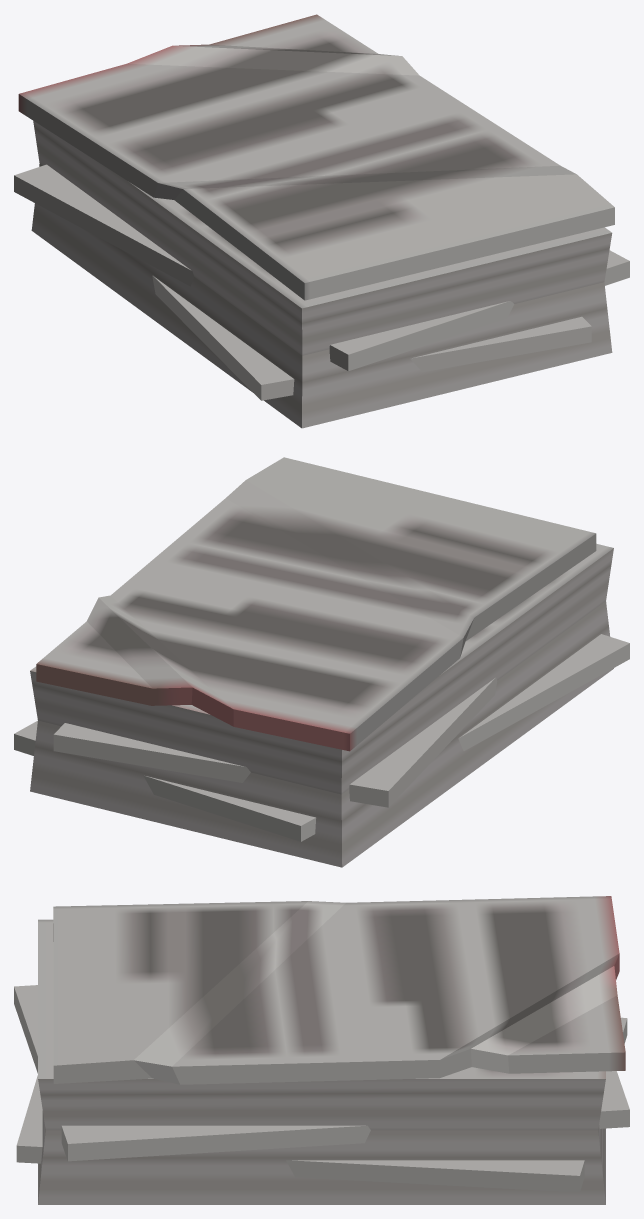
File: SM_Prop_Paper_Pile_02.glb
3 renders of one model, top to bottom at view 1: azimuth 30°, elevation 25°; view 2: azimuth 150°, elevation 25°; view 3: azimuth 270°, elevation 25°, orthographic. The views are drawn at different scales.
Visible parts, largest first — view 1: SM_Prop_Paper_Pile_02; view 2: SM_Prop_Paper_Pile_02; view 3: SM_Prop_Paper_Pile_02.
Boxes of the visible parts, left/top/right/bottom form: SM_Prop_Paper_Pile_02: left=14, top=14, right=629, bottom=428; SM_Prop_Paper_Pile_02: left=14, top=457, right=629, bottom=867; SM_Prop_Paper_Pile_02: left=14, top=896, right=629, bottom=1204.
Size of the model in its own units: 0.2666 by 0.0999 by 0.3617.
1 material, 1 textured.
